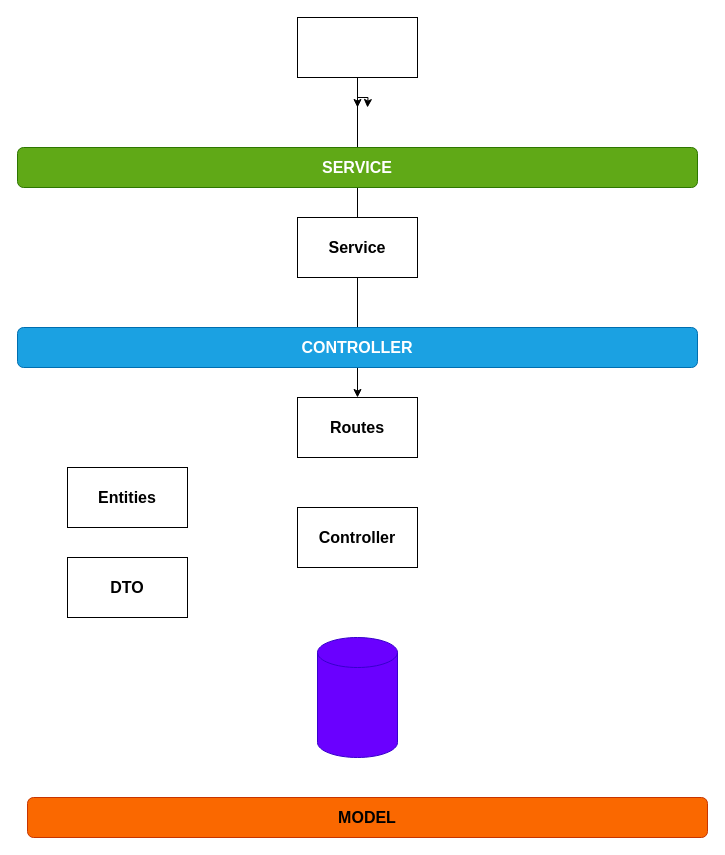
The diagram is 725 pixels wide and 855 high, and some of its shapes have lost their labels. The shapes that lost their labels are listed below. From the top down, each one's box as (x1, y1, x2, y2) in pixels, then its label:
(296, 16, 418, 78): Main
(316, 636, 398, 758): DB
